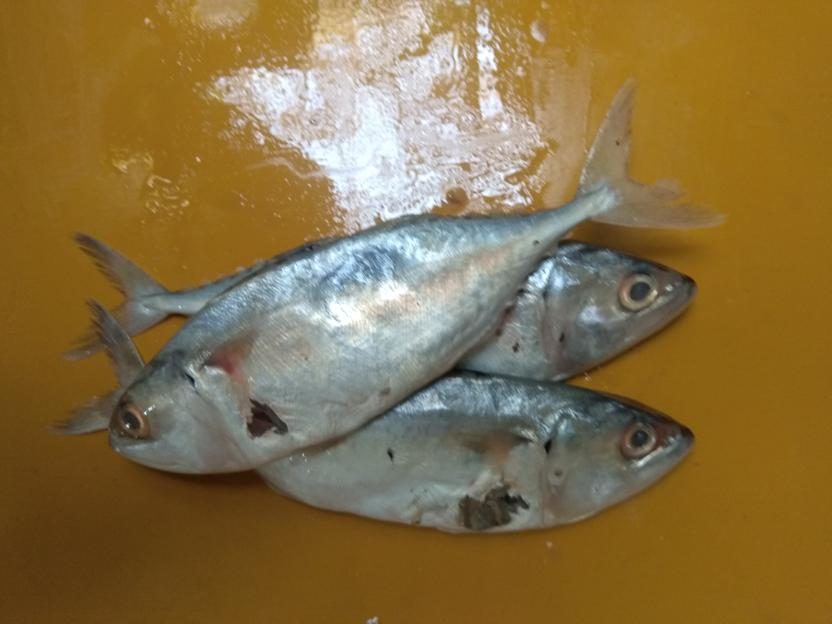Fish head: (543, 241, 696, 381), (547, 396, 696, 527), (107, 359, 257, 476)
Fish tail: (577, 77, 733, 231), (59, 226, 173, 362), (44, 297, 144, 436)
